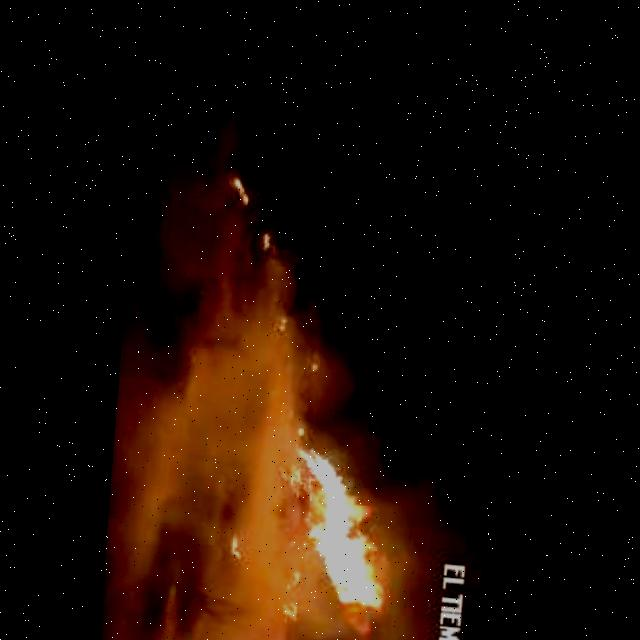Fire: (272, 421, 426, 640)
